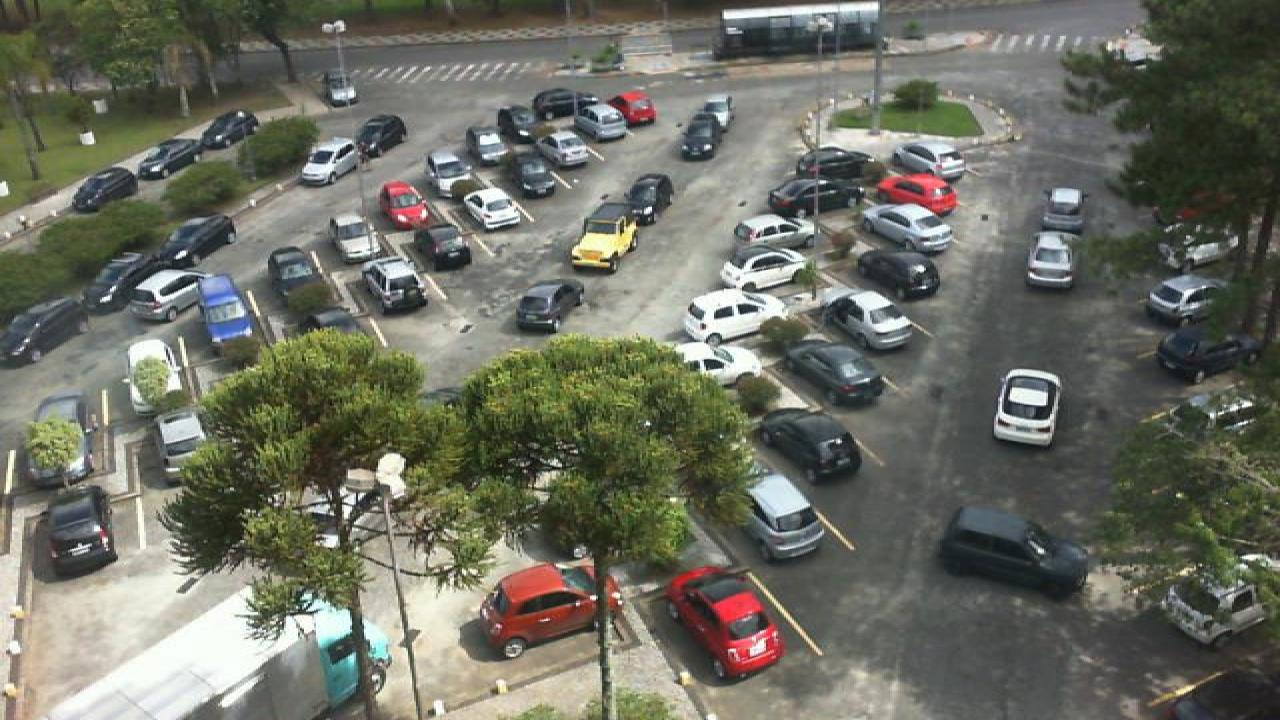Car: (936, 505, 1090, 599), (478, 560, 622, 660), (668, 565, 788, 684), (1162, 568, 1278, 647), (756, 407, 864, 486), (740, 471, 830, 565), (782, 340, 892, 410), (44, 486, 118, 582), (1154, 324, 1264, 380), (0, 296, 88, 366), (822, 288, 918, 351), (680, 290, 788, 346), (124, 336, 194, 419), (992, 368, 1064, 448), (1144, 271, 1242, 326), (20, 390, 90, 464), (82, 249, 160, 315), (122, 266, 206, 325), (148, 398, 210, 477), (858, 201, 954, 252), (572, 200, 638, 274), (854, 246, 940, 301), (194, 272, 254, 349), (718, 245, 808, 295), (158, 213, 238, 269), (674, 342, 762, 388), (360, 256, 428, 314), (876, 171, 960, 216), (768, 178, 864, 217), (514, 279, 582, 334), (68, 164, 142, 214), (264, 245, 326, 297), (296, 137, 360, 187), (732, 214, 816, 252), (892, 138, 970, 178), (134, 135, 202, 180), (794, 146, 878, 182), (374, 179, 432, 231), (1024, 232, 1076, 289), (620, 172, 674, 226), (328, 212, 384, 264), (414, 224, 474, 272), (462, 188, 522, 233), (350, 112, 406, 160), (198, 109, 258, 151), (574, 101, 628, 144), (678, 112, 724, 162), (510, 156, 564, 198), (424, 148, 474, 192), (538, 130, 590, 170), (1044, 184, 1086, 229), (466, 125, 512, 166), (608, 90, 658, 126), (530, 88, 582, 119), (696, 92, 734, 132), (324, 69, 360, 108), (496, 104, 532, 142)
